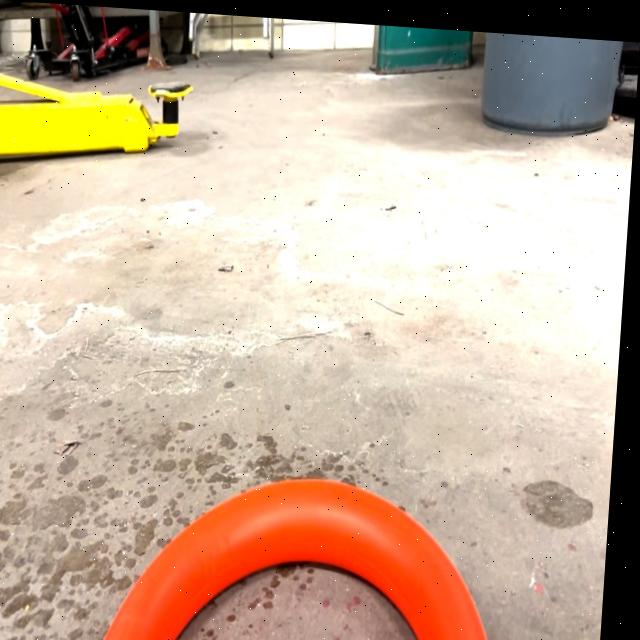note: (105, 461, 516, 640)
